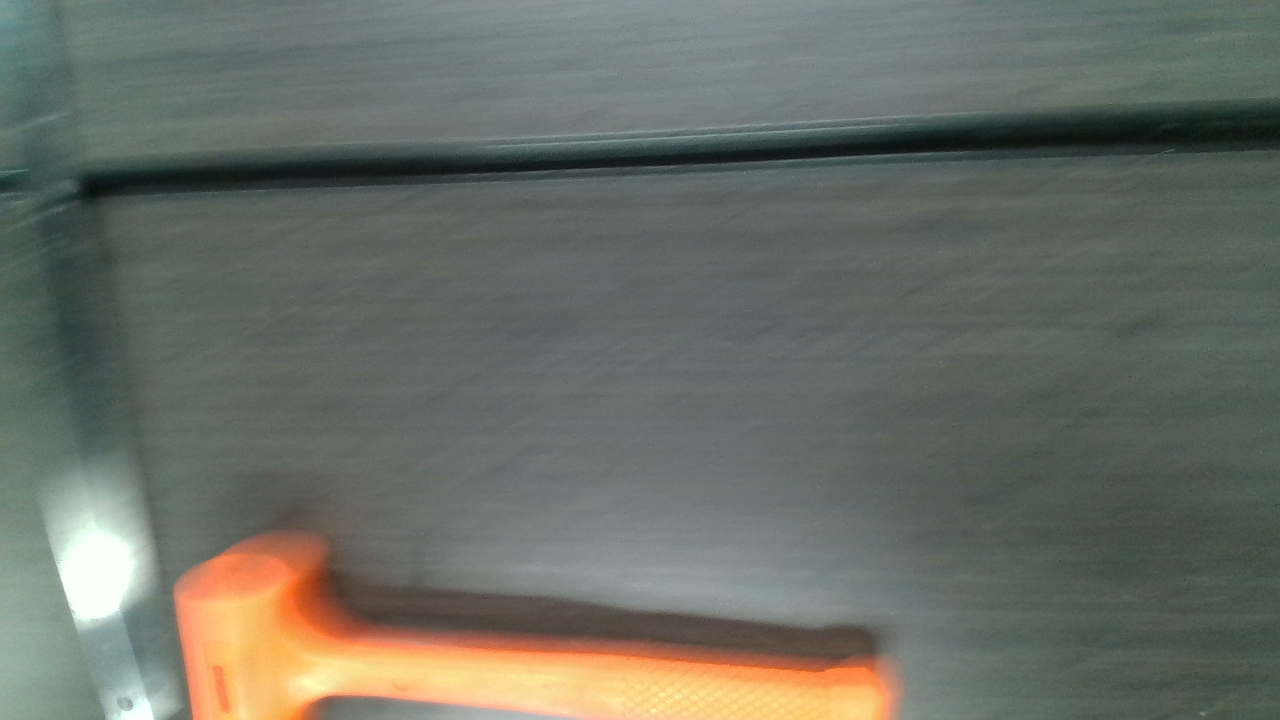Orange Hammer: (174, 552, 891, 720)
